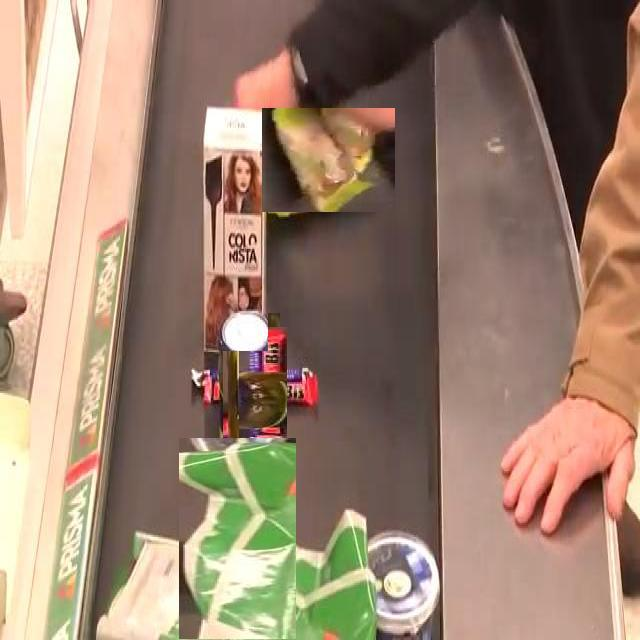food-box: (268, 101, 388, 219), (222, 312, 280, 506), (363, 525, 442, 634), (223, 342, 303, 423)
utility-box: (137, 479, 338, 640), (205, 109, 268, 351)
